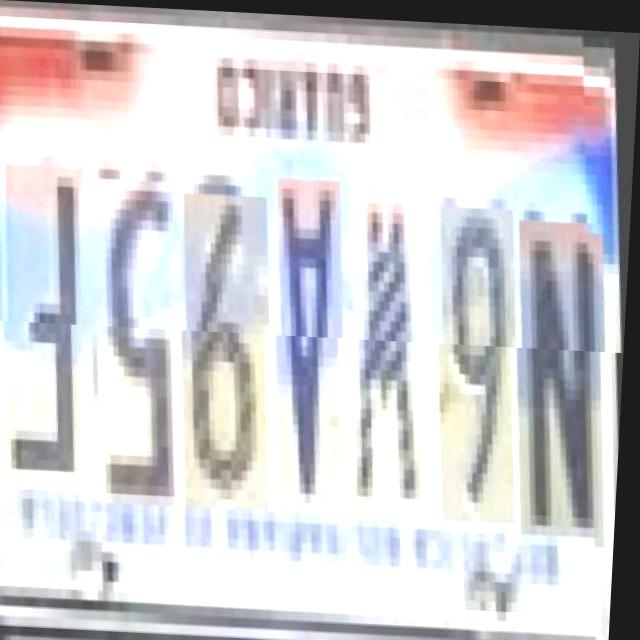5: (90, 177, 201, 504)
6: (432, 202, 536, 519)
9: (174, 191, 289, 509)
a: (268, 175, 363, 511)
f: (0, 164, 106, 491)
n: (510, 214, 625, 532)
w: (342, 188, 452, 515)
